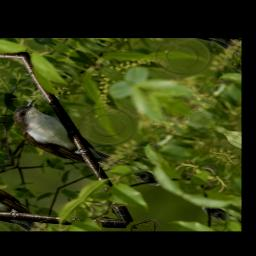Cuckoo: (0, 94, 157, 191)
